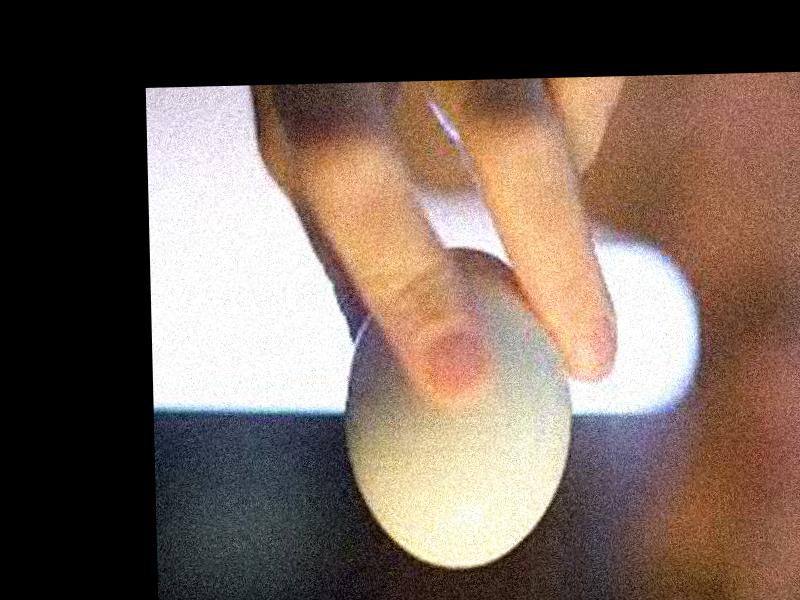Eggs: (345, 244, 579, 571)
